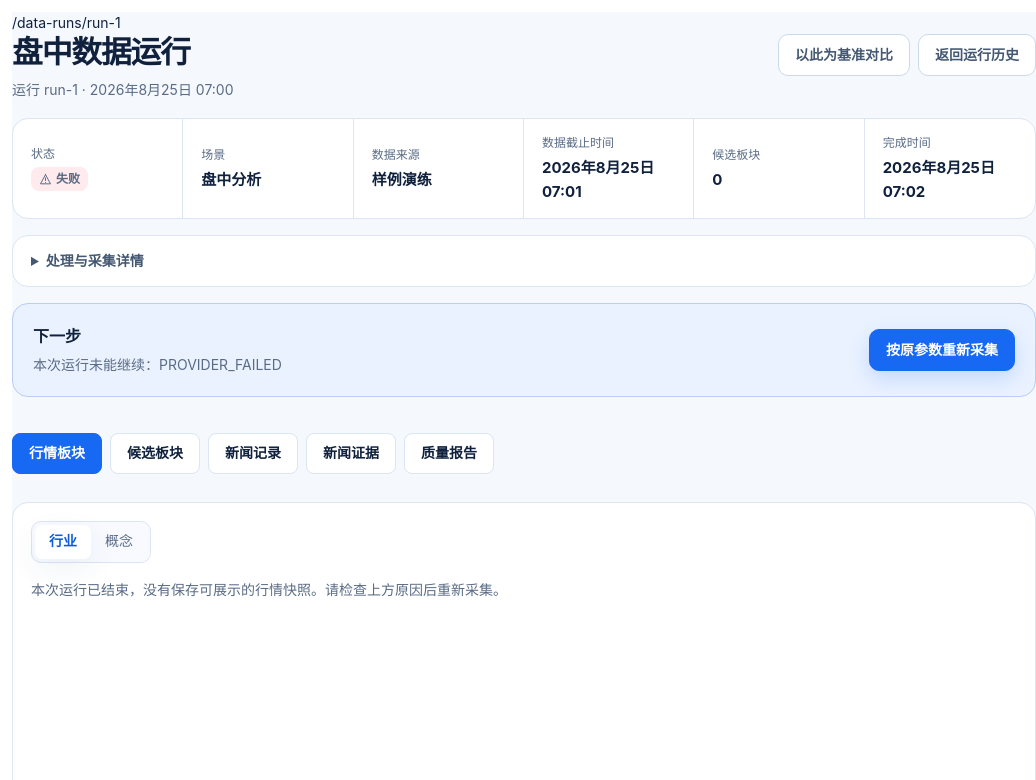
Scenario: retries a failed run with its original parameters
Click the button "按原参数重新采集" at (942, 350), box [869, 329, 1015, 371]
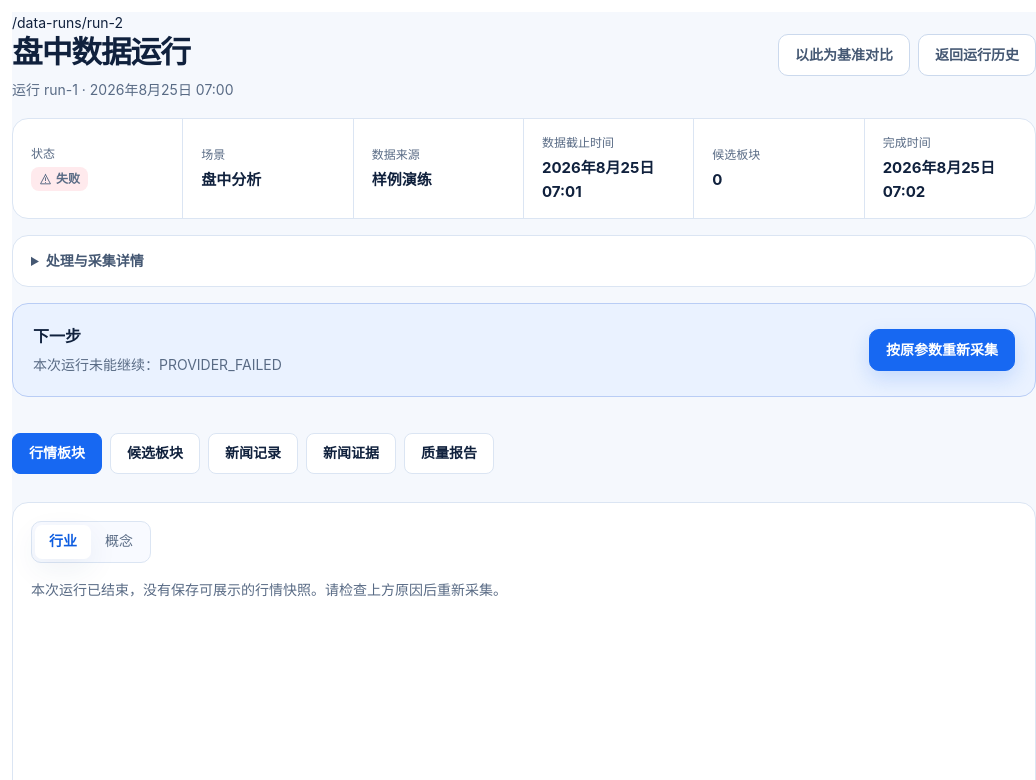
Now the text with test id "location" reads "/data-runs/run-2", box [12, 14, 123, 31]
